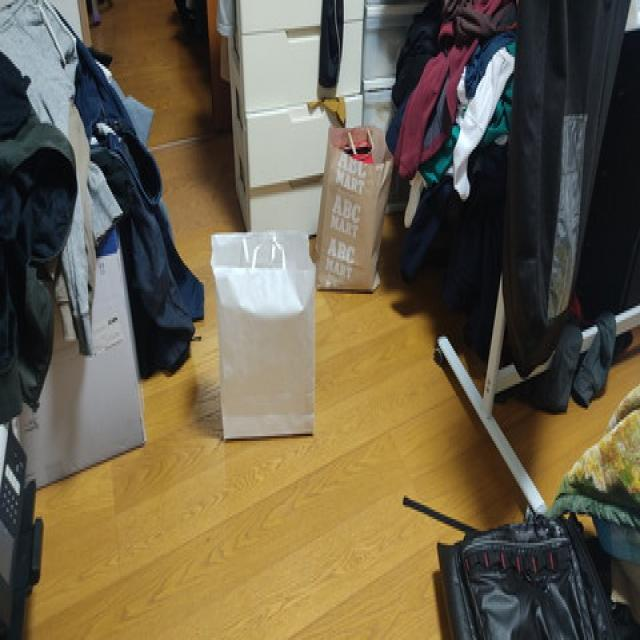paper bag: (208, 222, 314, 442), (313, 121, 389, 295)
